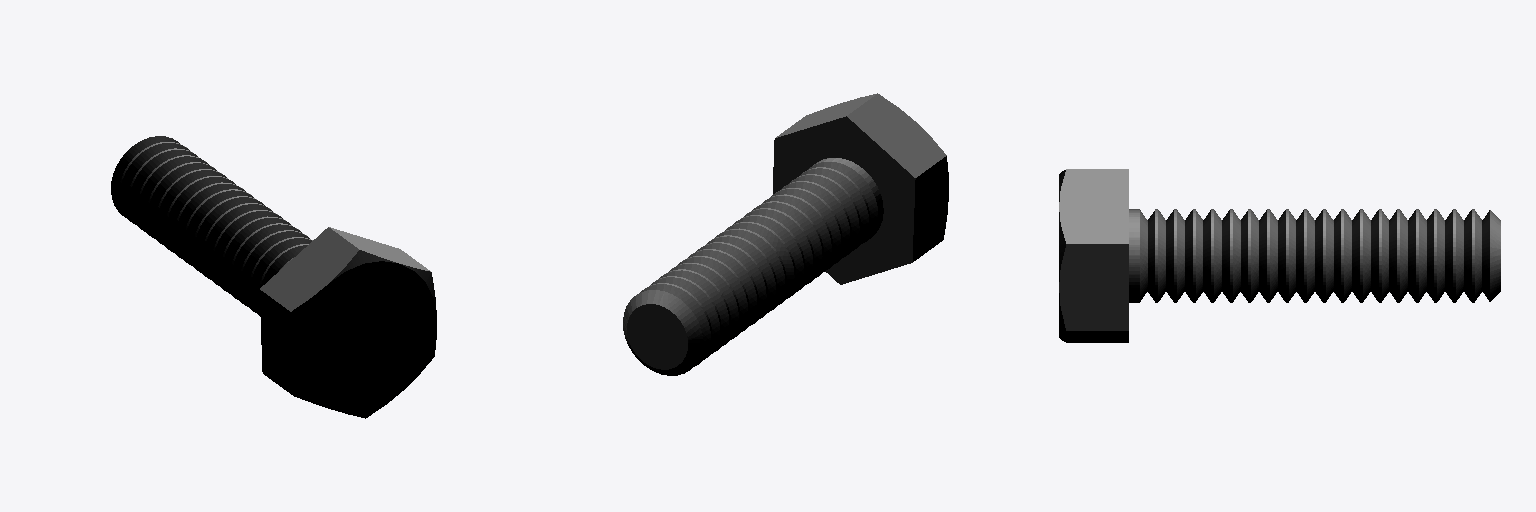
3 renders of one model, left to right at view 1: azimuth 30°, elevation 25°; view 2: azimuth 150°, elevation 25°; view 3: azimuth 270°, elevation 25°, orthographic.
Visible parts, largest first — view 1: Bolt3; view 2: Bolt3; view 3: Bolt3.
Part boxes in pixels (x1,y1,x2,y2): Bolt3: (111, 136, 436, 418); Bolt3: (623, 93, 948, 375); Bolt3: (1059, 169, 1500, 342).
Bounding box in the file's own units: 14.04 × 15.86 × 37.29.
1 materials, 1 textured.